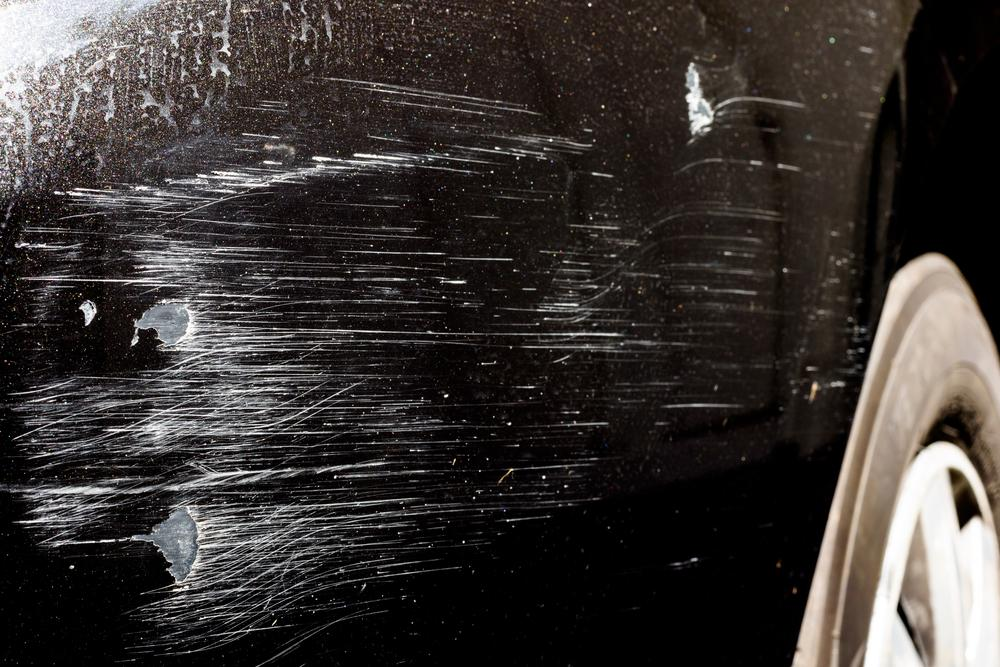scratch: (0, 62, 838, 667)
